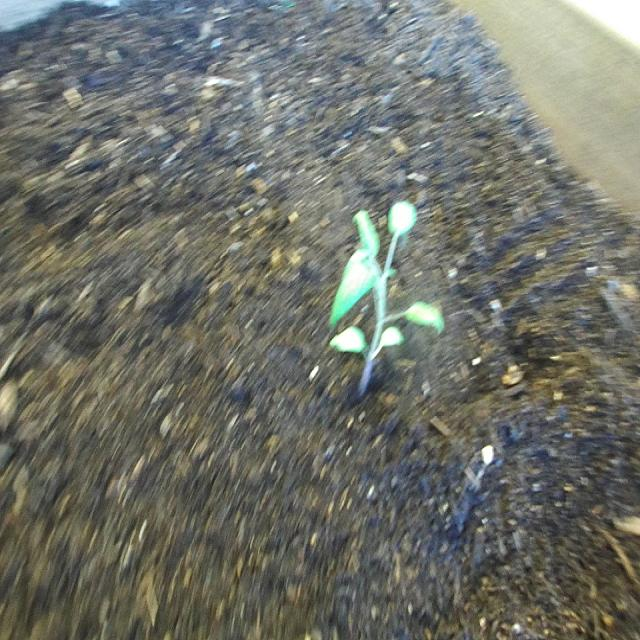Healthy: (314, 178, 458, 426)
